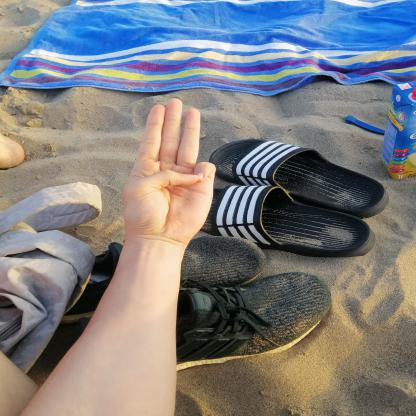THA: (109, 88, 226, 253)
